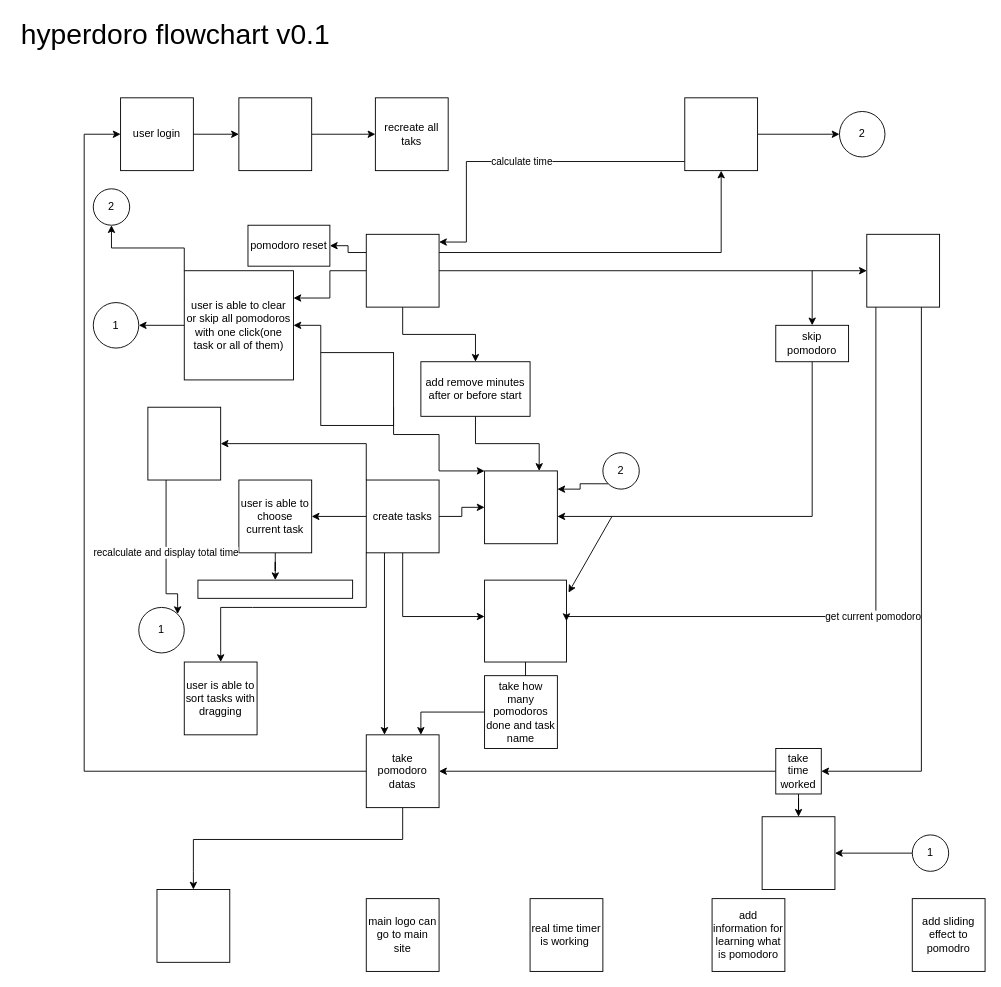
Image size: 1001x987. Some labels were removed from this diagram. The box of each missing label's shape, as (x1, y1, x2, y2) in pixels:
add pomodoros to tasks: (320, 352, 394, 425)
calculate and display task times and total time: (484, 470, 557, 544)
change current pomodoro: (197, 579, 353, 598)
clear tasks: (238, 97, 312, 171)
display how many pomodoros done,time worked: (156, 889, 230, 962)
display total time worked: (761, 816, 835, 890)
pomodoro done: (866, 233, 940, 307)
pomodoro start: (365, 233, 439, 307)
pomodoro stop: (684, 97, 758, 171)
remove current pomodoro number if current task done: (484, 579, 566, 662)
user is able to clear pomodoro(not calculated as done): (147, 406, 221, 480)
